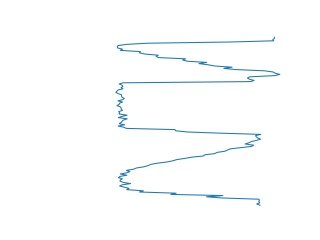distributaryChannelFill: (111, 76, 262, 140)
mouthBar: (115, 34, 283, 75)
underwaterDistributaryChannel: (113, 138, 265, 209)
